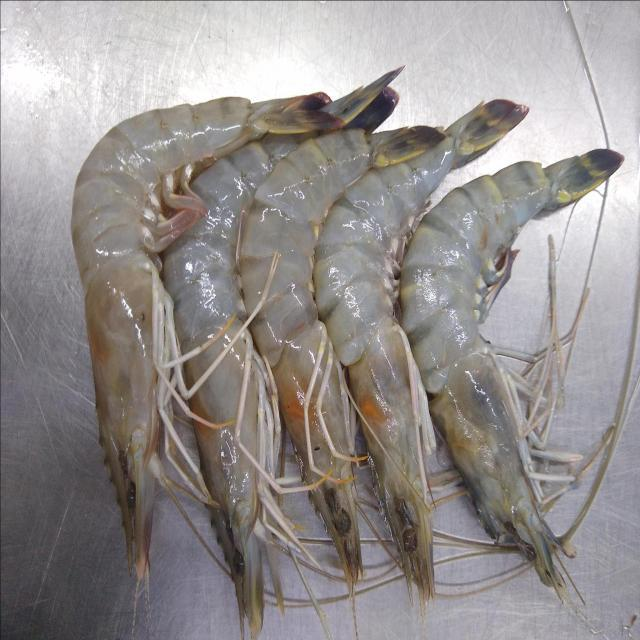shrimp: (314, 100, 525, 617), (400, 148, 624, 600), (71, 98, 252, 578), (239, 127, 395, 597), (162, 133, 306, 638)
